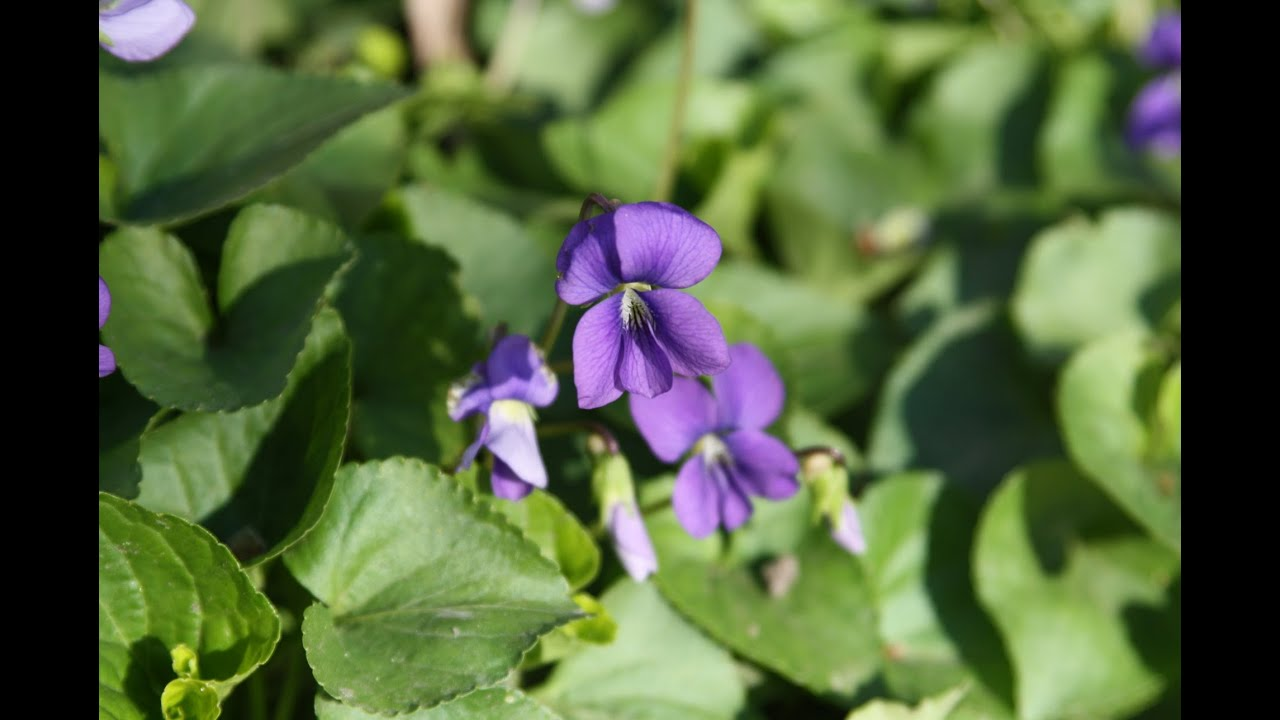violet: (514, 193, 757, 402), (621, 344, 813, 536), (442, 333, 582, 511)
